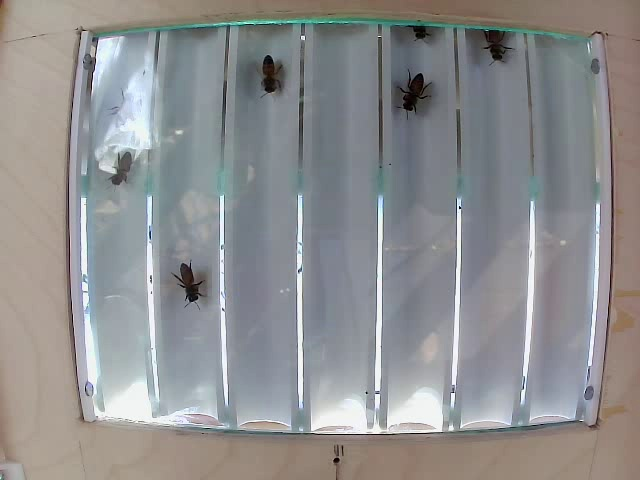bee: (169, 258, 228, 321), (241, 48, 294, 109), (478, 21, 526, 74), (92, 163, 148, 207), (387, 69, 432, 117), (406, 12, 450, 60)
